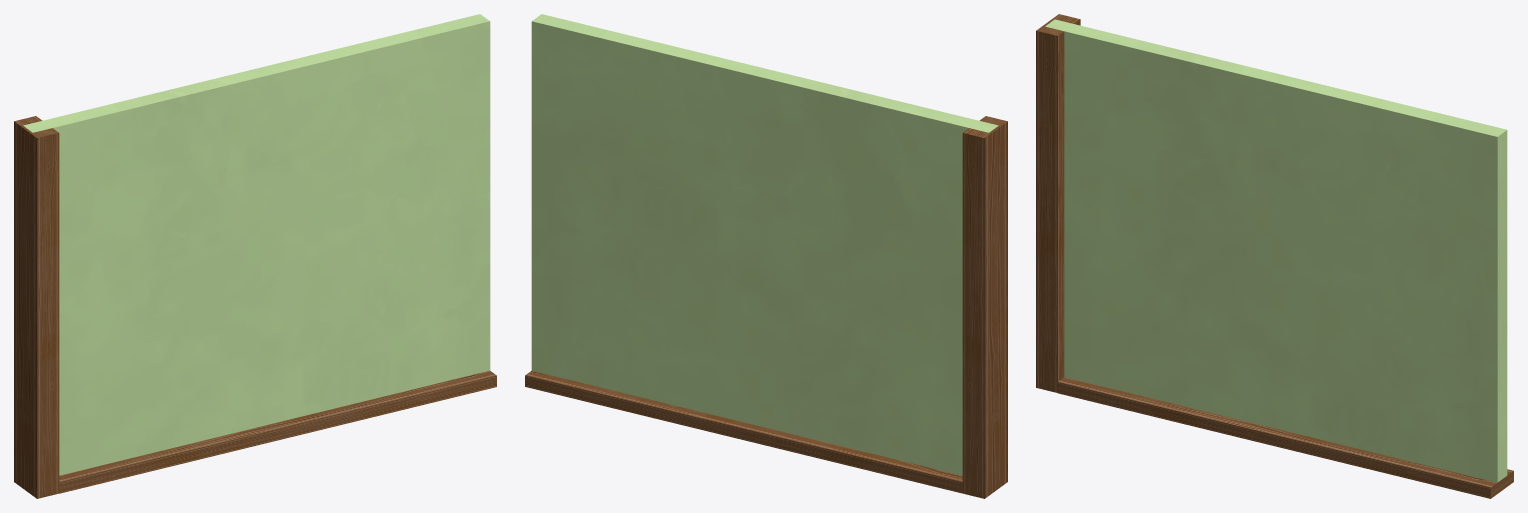
The model's file is SM_Large_Wall_03_wmint.glb.
The picture shows the model from 3 angles, left to right: view 1: azimuth 30°, elevation 25°; view 2: azimuth 150°, elevation 25°; view 3: azimuth 330°, elevation 25°; orthographic projection.
Visible parts, largest first — view 1: SM_Large_Wall_03; view 2: SM_Large_Wall_03; view 3: SM_Large_Wall_03.
Boxes of the visible parts, box(x1,y1,x2,y2) form: SM_Large_Wall_03: box(14, 14, 496, 498); SM_Large_Wall_03: box(525, 14, 1007, 498); SM_Large_Wall_03: box(1036, 14, 1513, 498).
Size of the model in its own units: 4 by 3 by 0.3524.
Materials: 2 (2 with a texture image).
